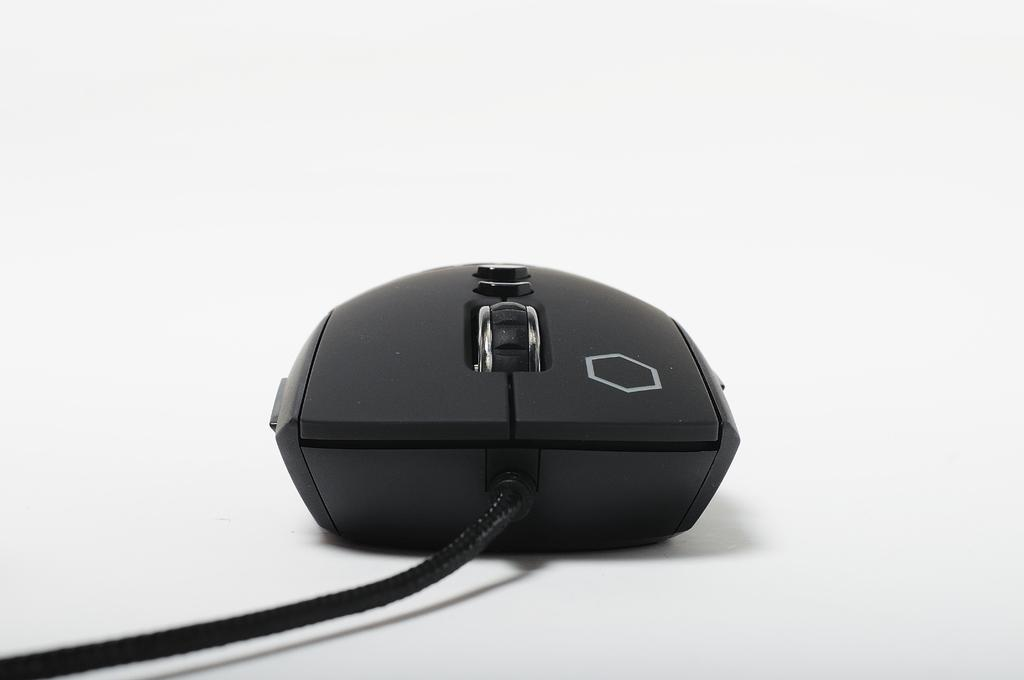Computer-mouse: (266, 255, 739, 553)
